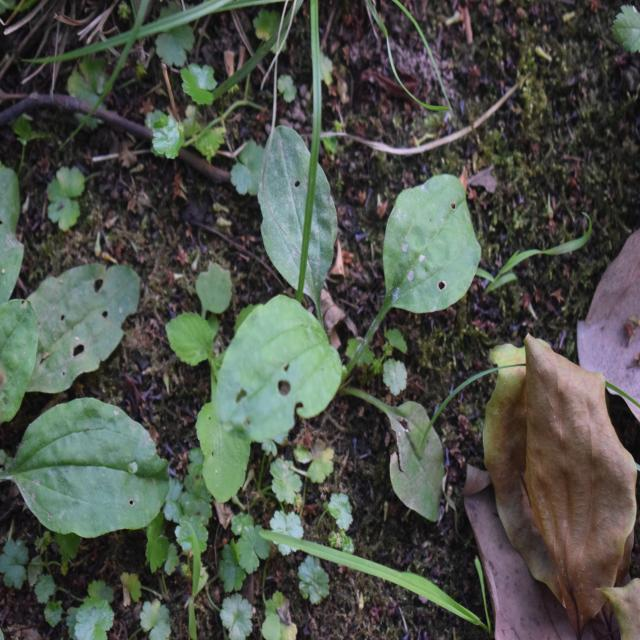plantain: (230, 111, 477, 522)
